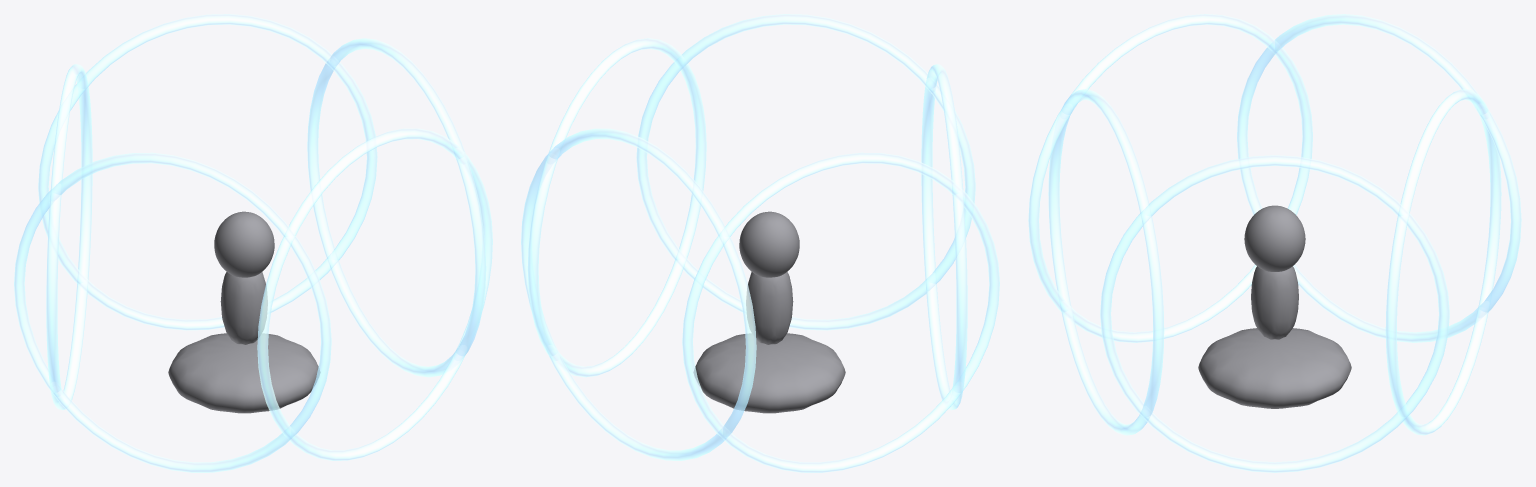
The model's file is sprinkler.glb.
3 renders of one model, left to right at view 1: azimuth 30°, elevation 25°; view 2: azimuth 150°, elevation 25°; view 3: azimuth 270°, elevation 25°, orthographic.
Parts seen in each view (by area): view 1: sprinkler; view 2: sprinkler; view 3: sprinkler.
Boxes of the visible parts, x1=… form: sprinkler: x1=14, y1=14, x2=492, y2=472; sprinkler: x1=521, y1=14, x2=999, y2=472; sprinkler: x1=1028, y1=14, x2=1521, y2=472.
Bounding box in the file's own units: 0.6622 × 0.493 × 0.6953.
